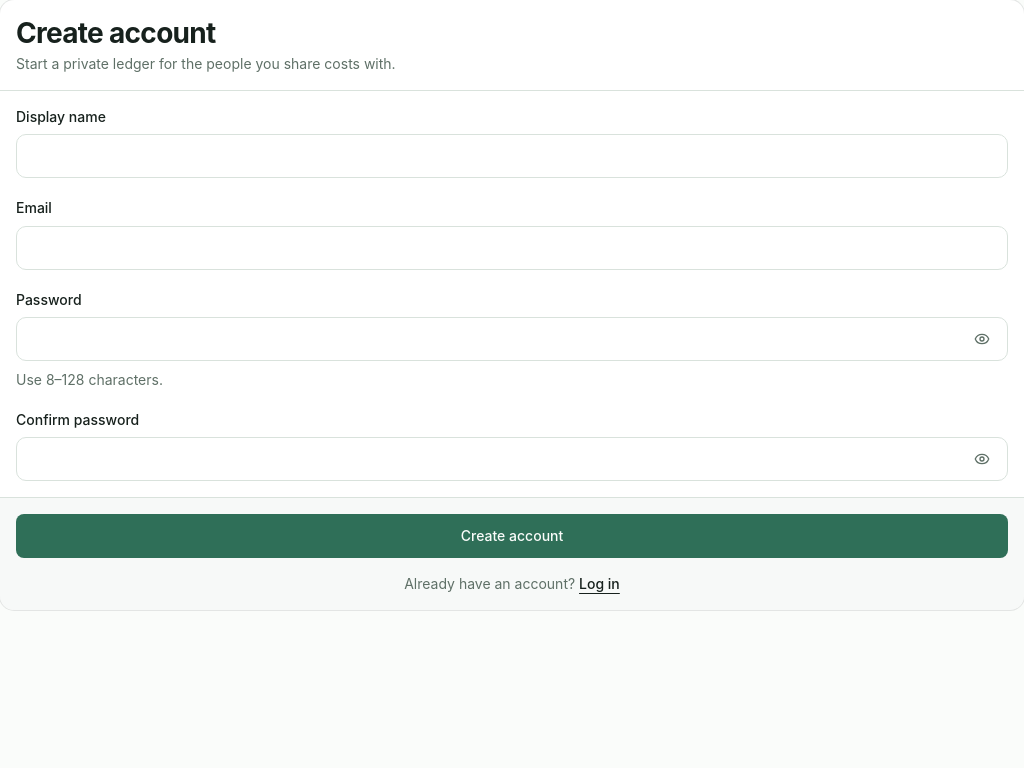
Test case: RegisterForm › checks confirmation against an edited password and toggles visibility independently
In the field labelled "Display name": (512, 156) [16, 134, 1008, 178], type "Alice"
In the field labelled "Email": (512, 248) [16, 226, 1008, 270], type "alice@example.com"
In the password field labelled "Password": (488, 339) [17, 317, 960, 361], type "password"
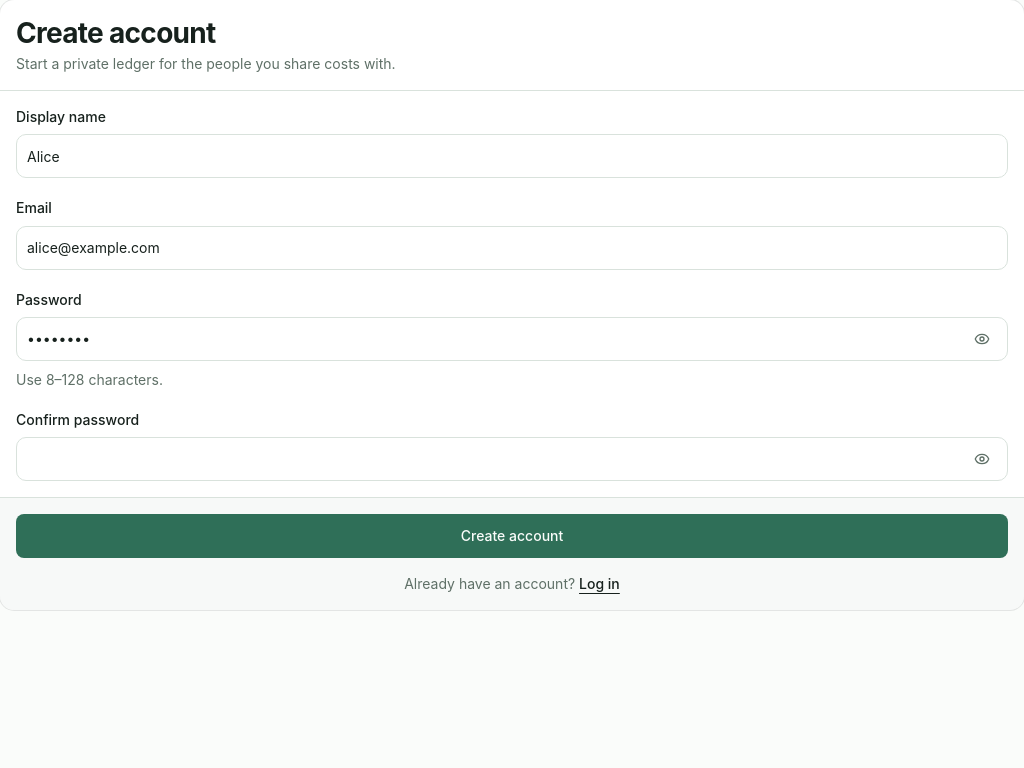
In the password field labelled "Confirm password": (488, 459) [17, 437, 960, 481], type "password"
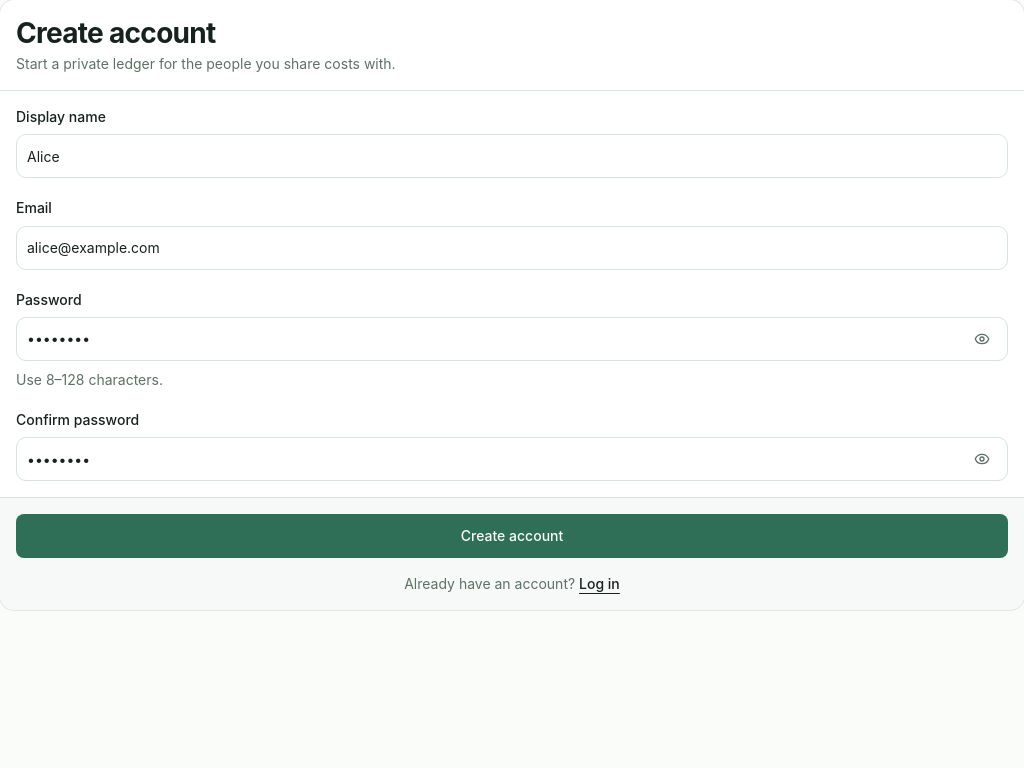
Click the button named "Show confirmed password": (982, 459) [960, 437, 1004, 481]
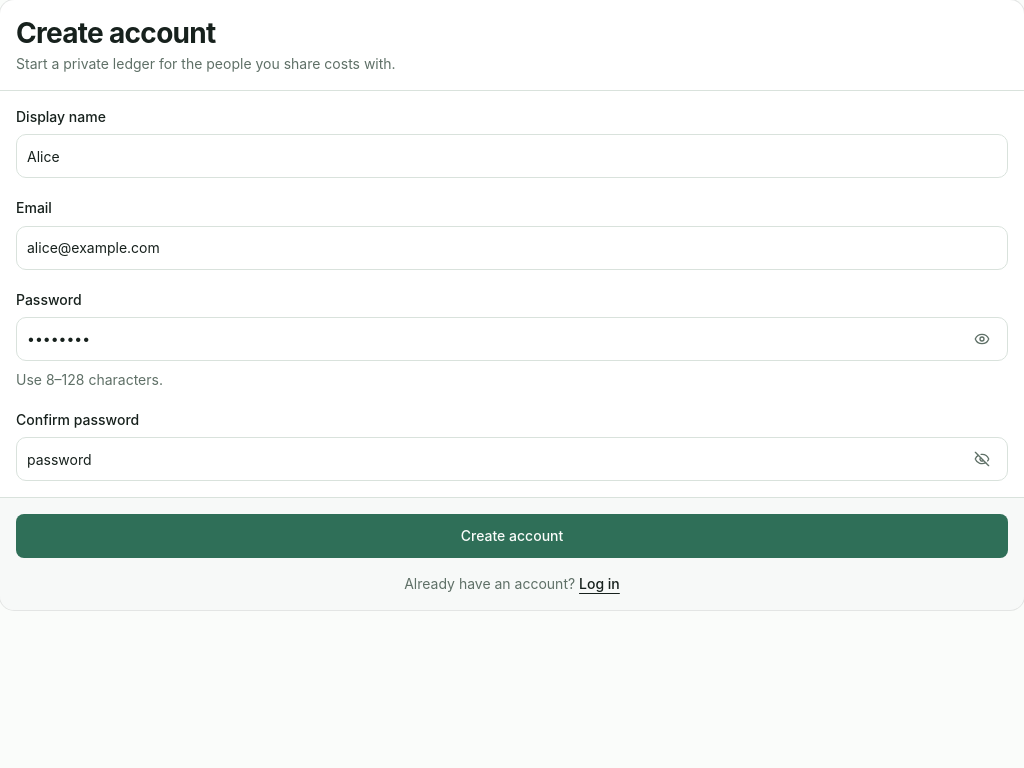
Check: the field labelled "Confirm password" shows its text, box [17, 437, 960, 481]
Click the button named "Hide confirmed password": (982, 459) [960, 437, 1004, 481]
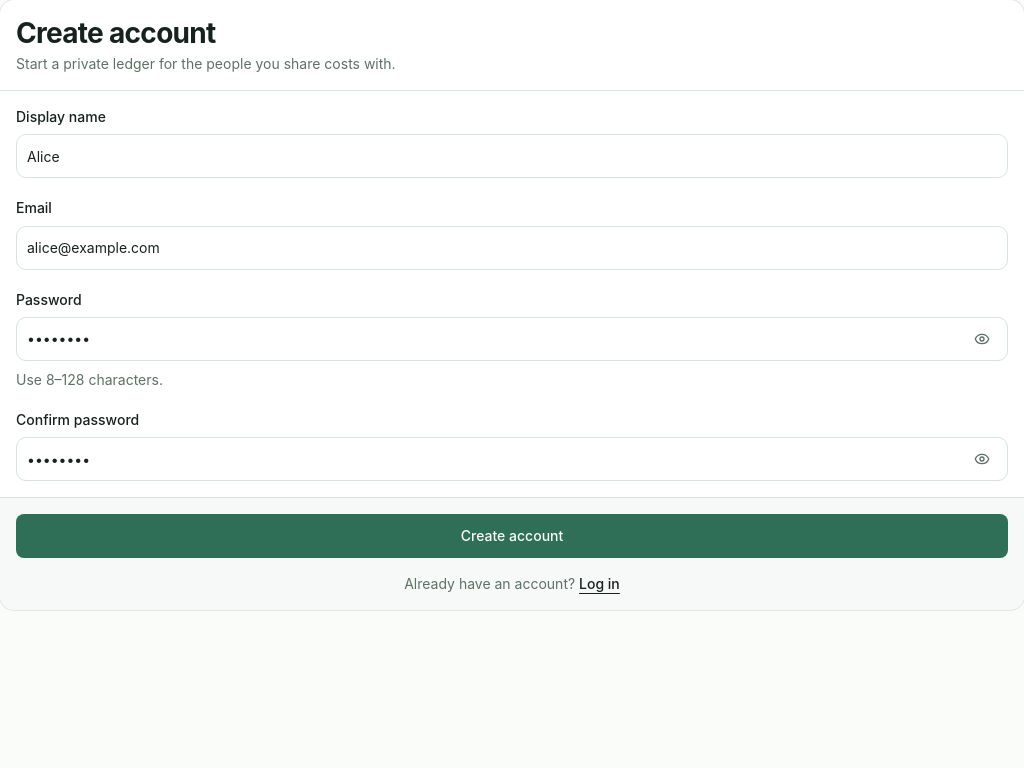
Check: the password field labelled "Confirm password" hides its text, box [17, 437, 960, 481]
In the password field labelled "Password": (488, 339) [17, 317, 960, 361], type "new-password"
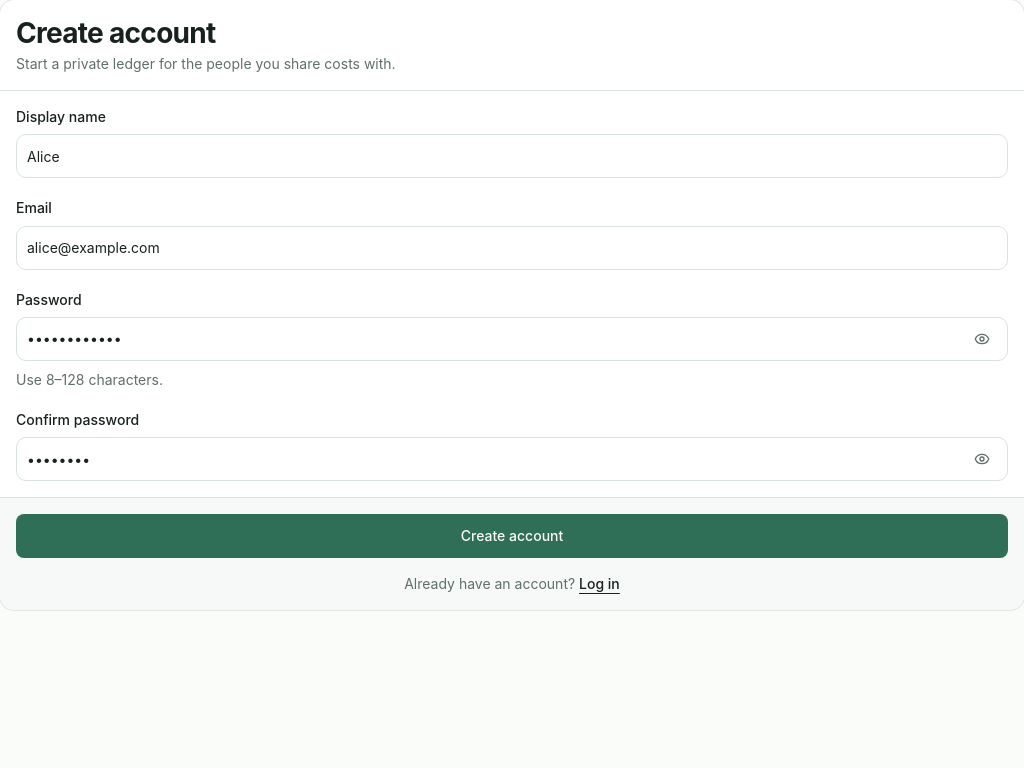
Click the button "Create account": (512, 536) [16, 514, 1008, 558]
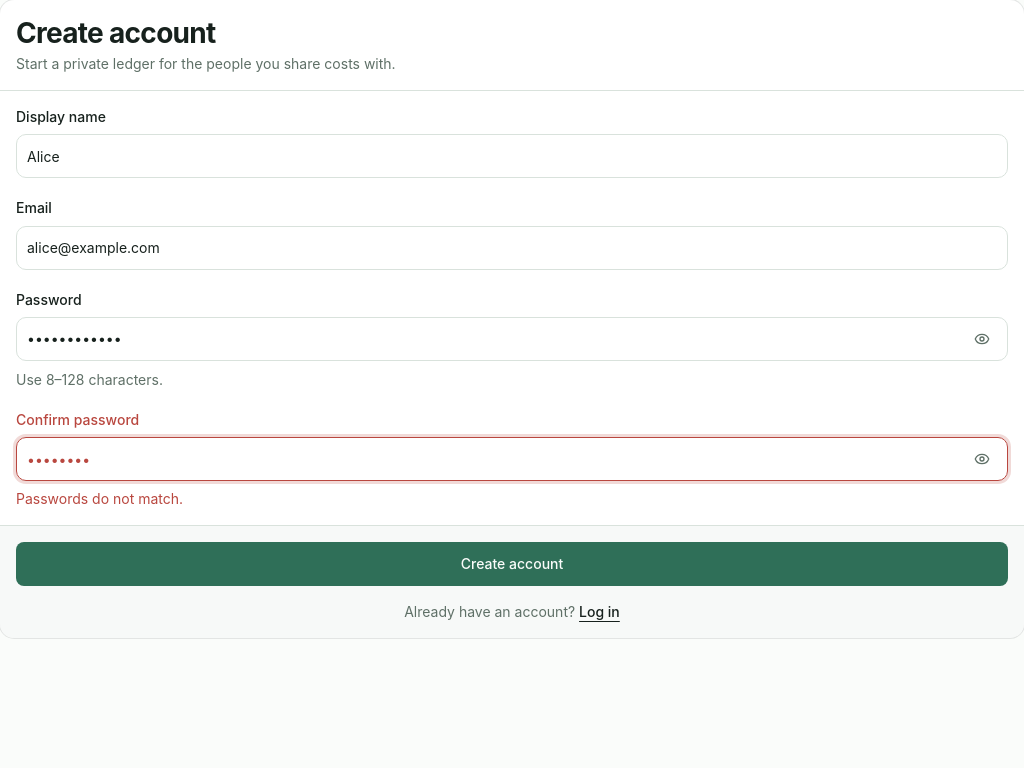
Check: the text "Passwords do not match." is shown, box [16, 490, 183, 507]
